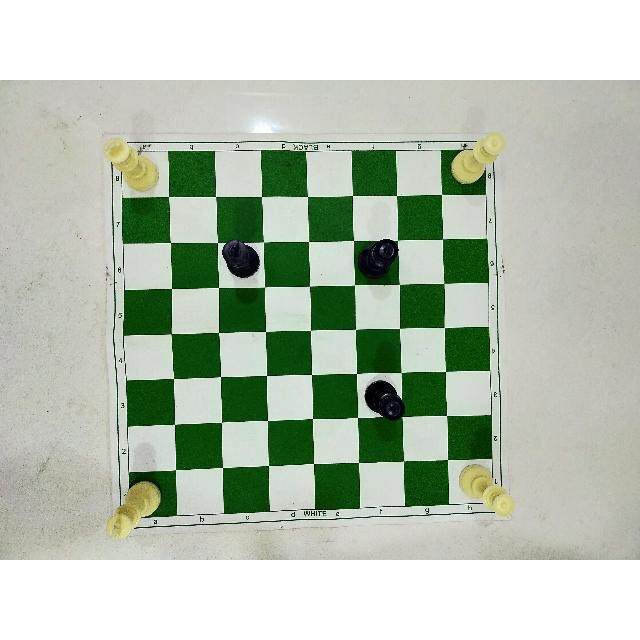black-king: (221, 239, 263, 280)
black-queen: (363, 377, 407, 421), (362, 233, 400, 281)
white-king: (104, 476, 163, 543), (100, 132, 161, 191)
white-queen: (456, 463, 516, 516), (450, 132, 506, 186)
